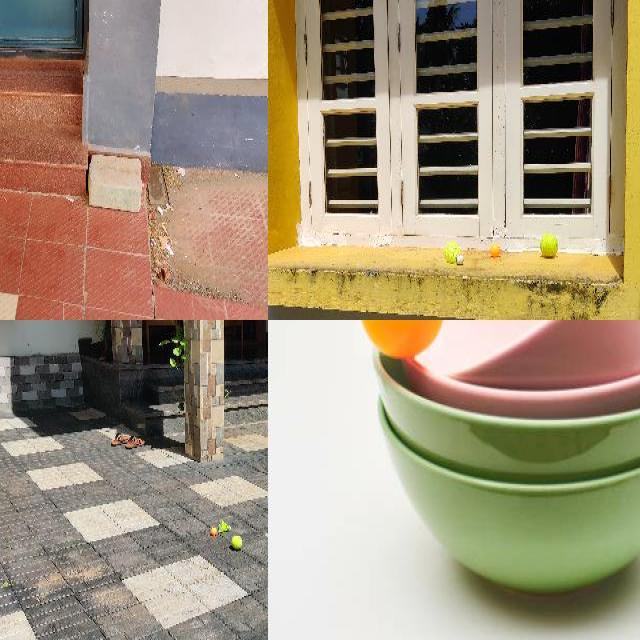ping-pong-ball: (355, 320, 445, 359), (490, 244, 500, 257), (210, 525, 217, 536)
